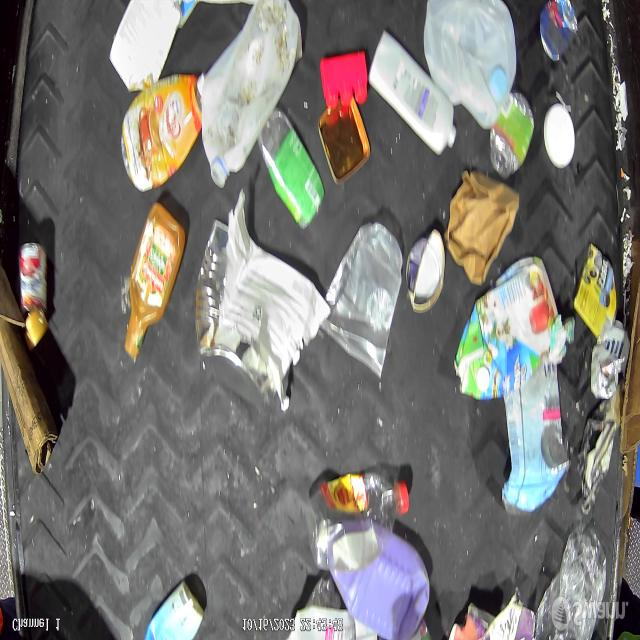can: (195, 191, 332, 411), (405, 228, 446, 312), (539, 0, 577, 63), (19, 242, 48, 312)
milk_jug: (197, 2, 300, 181), (423, 0, 517, 130)
non_white_jug: (454, 256, 559, 401), (329, 528, 430, 638), (506, 357, 568, 511)
plastic_bottle: (309, 471, 410, 571), (543, 520, 603, 637)
